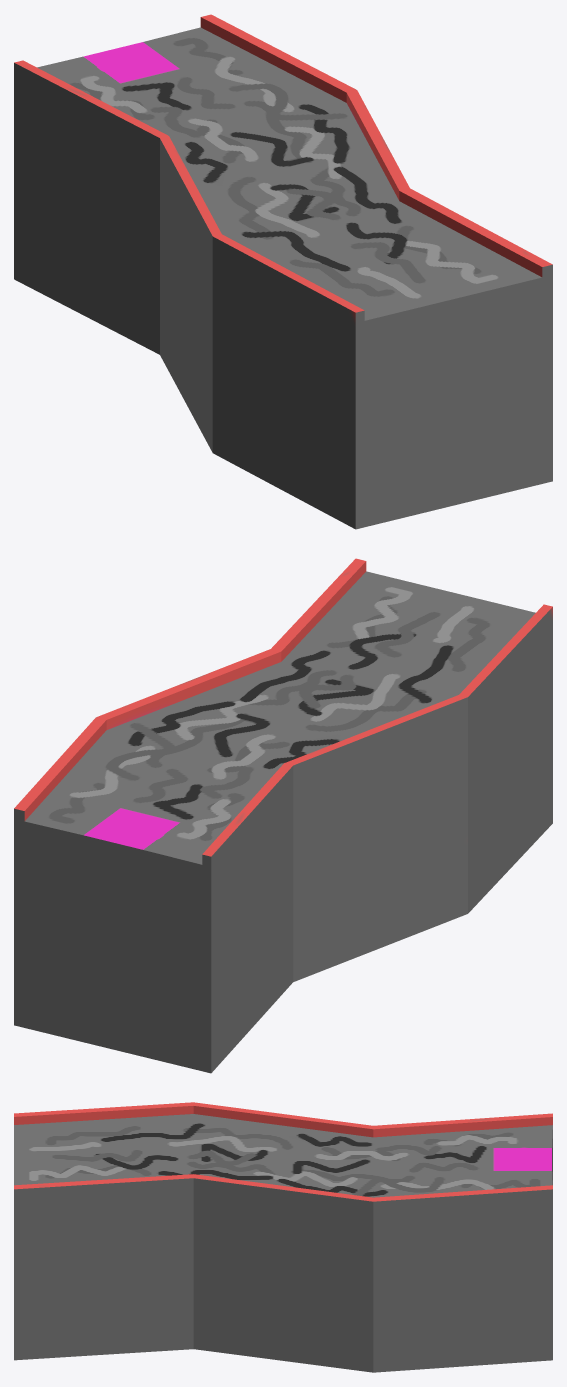
Rendered from track2.fbx.
3 views of the same model, one above another, from view 1: azimuth 30°, elevation 25°; view 2: azimuth 150°, elevation 25°; view 3: azimuth 270°, elevation 25° (orthographic). The views are drawn at different scales.
Parts seen in each view (by area): view 1: Cube.001; view 2: Cube.001; view 3: Cube.001.
Part boxes in pixels (x1,y1,x2,y2): Cube.001: (14, 14, 552, 529); Cube.001: (14, 558, 552, 1073); Cube.001: (14, 1102, 552, 1372).
Size of the model in its own units: 1309 by 1050 by 3000.
